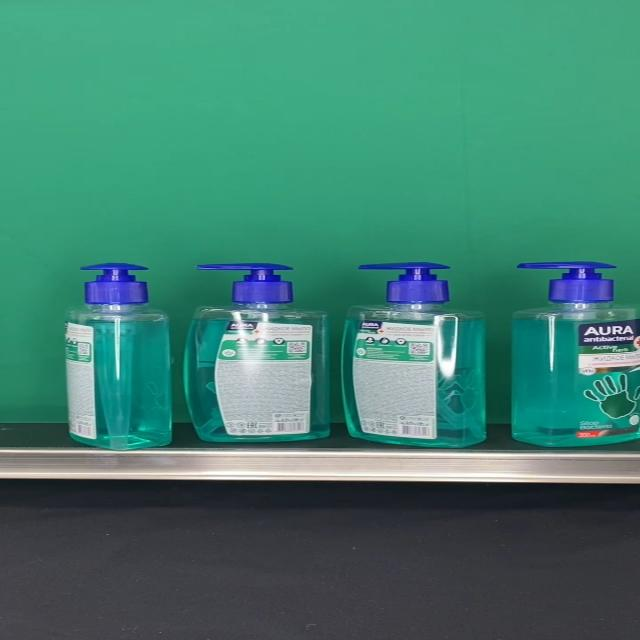Bottle: (343, 263, 488, 448), (186, 262, 332, 442), (513, 261, 640, 447), (66, 262, 172, 450)
Cap: (517, 261, 617, 303), (197, 262, 296, 304), (357, 262, 451, 304), (78, 263, 148, 304)
